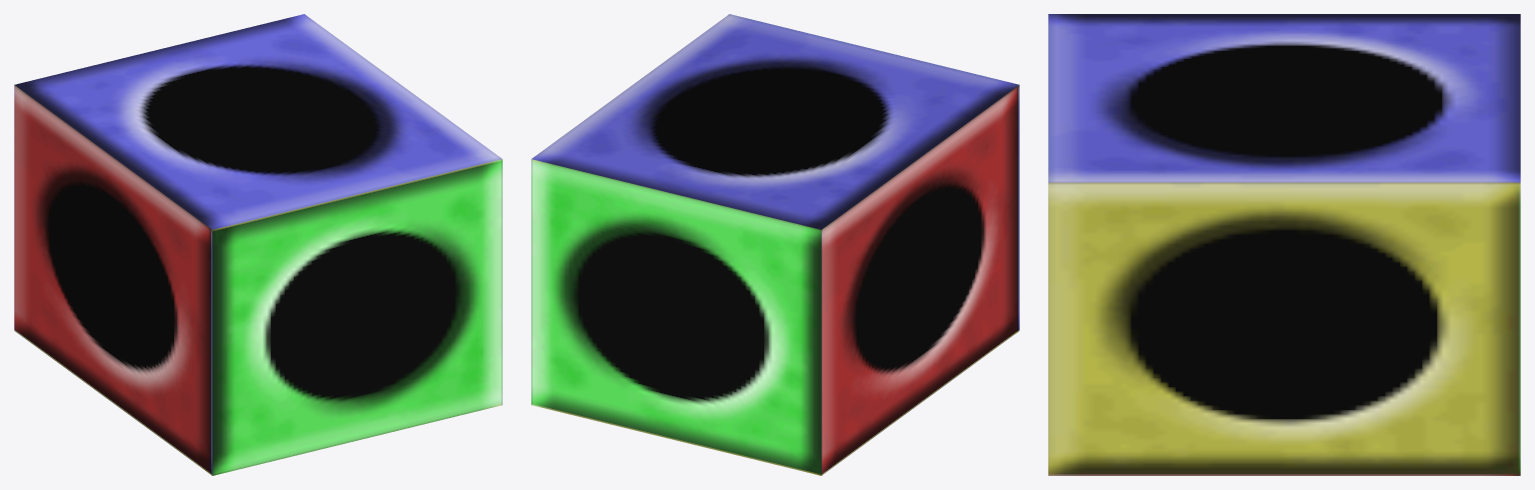
The picture shows the model from 3 angles, left to right: view 1: azimuth 30°, elevation 25°; view 2: azimuth 150°, elevation 25°; view 3: azimuth 270°, elevation 25°; orthographic projection. The views are drawn at different scales.
Visible parts, largest first — view 1: Box03; view 2: Box03; view 3: Box03.
Part boxes in pixels (x1=…): Box03: x1=14, y1=14, x2=502, y2=475; Box03: x1=531, y1=14, x2=1019, y2=475; Box03: x1=1048, y1=14, x2=1520, y2=475.
Bounding box in the file's own units: 368 × 298 × 436.
1 material, 1 textured.
